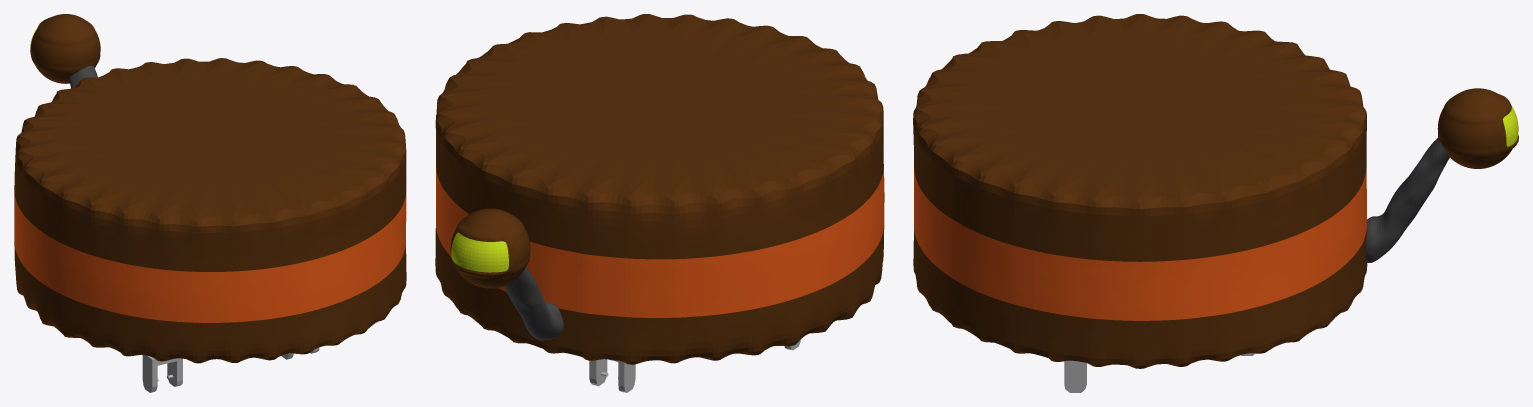
File: Робот-добытчик V1.0 (для Unity).fbx
3 renders of one model, left to right at view 1: azimuth 30°, elevation 25°; view 2: azimuth 150°, elevation 25°; view 3: azimuth 270°, elevation 25°, orthographic. The views are drawn at different scales.
Parts seen in each view (by area): view 1: Корпус, Голова, Cube.001; view 2: Корпус, Голова, Шея, Глаза, Cube.002; view 3: Корпус, Голова, Шея, Cube.
Boxes of the visible parts, x1,y1,x2,y2 form: Корпус: (14, 58, 406, 363); Голова: (30, 14, 100, 83); Cube.001: (142, 355, 182, 392); Корпус: (435, 14, 884, 364); Голова: (450, 208, 530, 288); Шея: (504, 266, 564, 340); Глаза: (451, 232, 508, 272); Cube.002: (589, 359, 635, 392); Корпус: (913, 14, 1367, 368); Голова: (1437, 88, 1518, 168); Шея: (1366, 137, 1449, 262); Cube: (1064, 360, 1086, 392).
Bounding box in the file's own units: 200 × 126 × 266.
